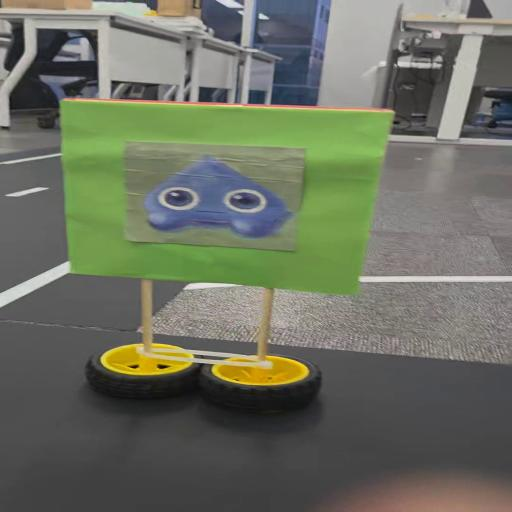Sign_B: (52, 94, 384, 416)
